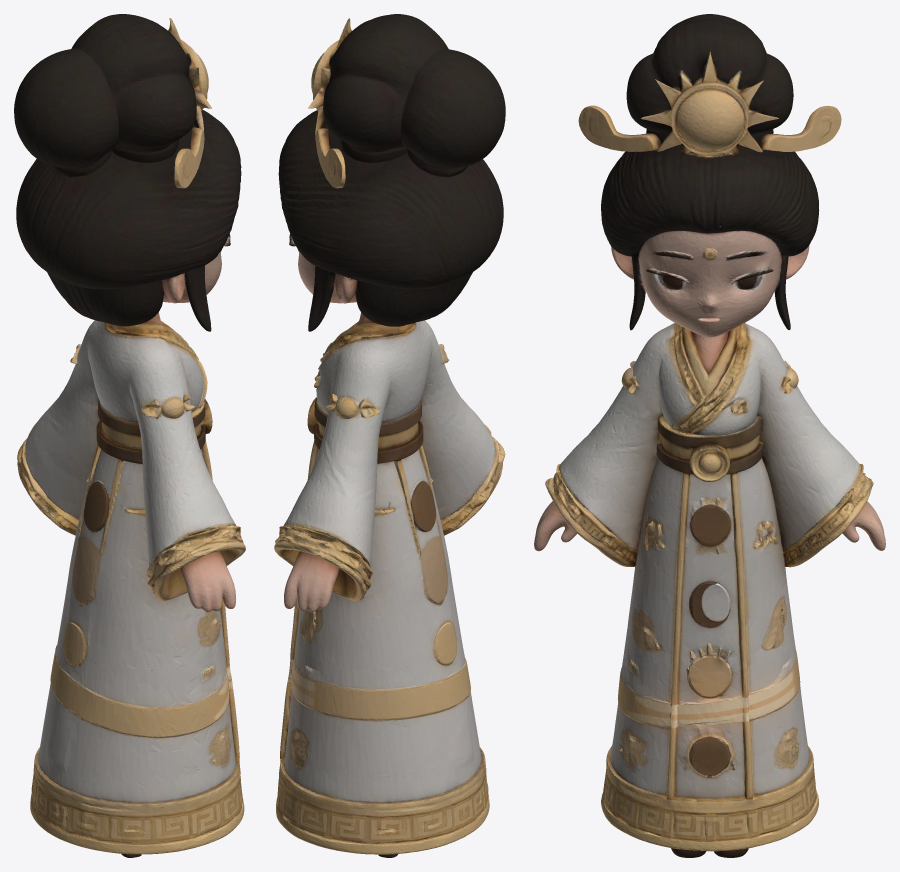
The picture shows the model from 3 angles, left to right: view 1: azimuth 30°, elevation 25°; view 2: azimuth 150°, elevation 25°; view 3: azimuth 270°, elevation 25°; orthographic projection.
Parts seen in each view (by area): view 1: tripo_node_9db85367-b6fb-4487-8983-a92dab276d0e; view 2: tripo_node_9db85367-b6fb-4487-8983-a92dab276d0e; view 3: tripo_node_9db85367-b6fb-4487-8983-a92dab276d0e.
Boxes of the visible parts, bbox=[...] form: tripo_node_9db85367-b6fb-4487-8983-a92dab276d0e: bbox=[14, 14, 245, 857]; tripo_node_9db85367-b6fb-4487-8983-a92dab276d0e: bbox=[274, 14, 505, 857]; tripo_node_9db85367-b6fb-4487-8983-a92dab276d0e: bbox=[534, 14, 885, 857].
Size of the model in its own units: 0.264 by 1 by 0.3942.
1 material, 1 textured.
